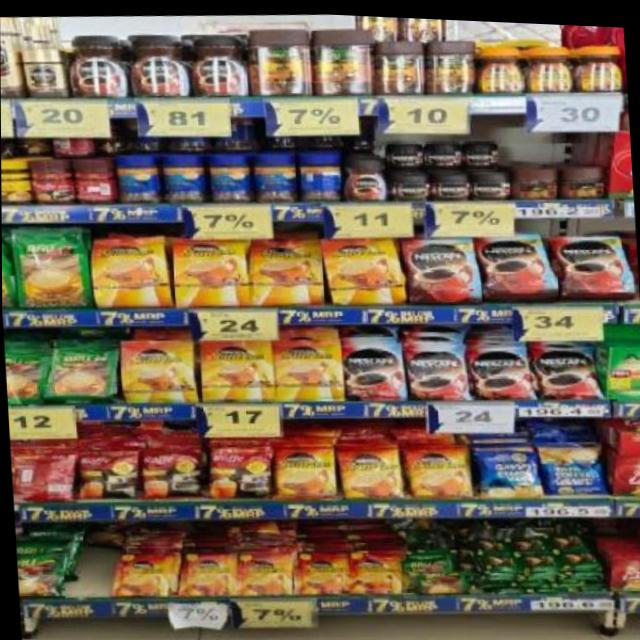Coffee: (320, 230, 403, 304), (476, 227, 557, 299), (551, 227, 634, 297), (245, 233, 321, 306), (171, 234, 247, 307), (91, 235, 167, 307), (403, 232, 478, 302), (197, 336, 273, 402), (119, 336, 192, 404), (271, 335, 341, 400), (128, 31, 191, 99), (65, 32, 127, 100), (533, 336, 598, 396), (403, 438, 471, 495), (336, 339, 401, 398), (190, 30, 247, 96), (467, 338, 531, 395), (402, 340, 467, 396), (337, 442, 401, 497), (272, 439, 335, 494), (573, 37, 627, 89), (473, 40, 525, 92), (524, 37, 574, 87), (343, 152, 389, 200), (22, 48, 66, 98), (0, 15, 23, 98), (389, 168, 431, 197), (470, 167, 512, 195), (425, 136, 464, 166), (434, 169, 470, 196), (464, 135, 499, 162), (385, 137, 420, 164)
